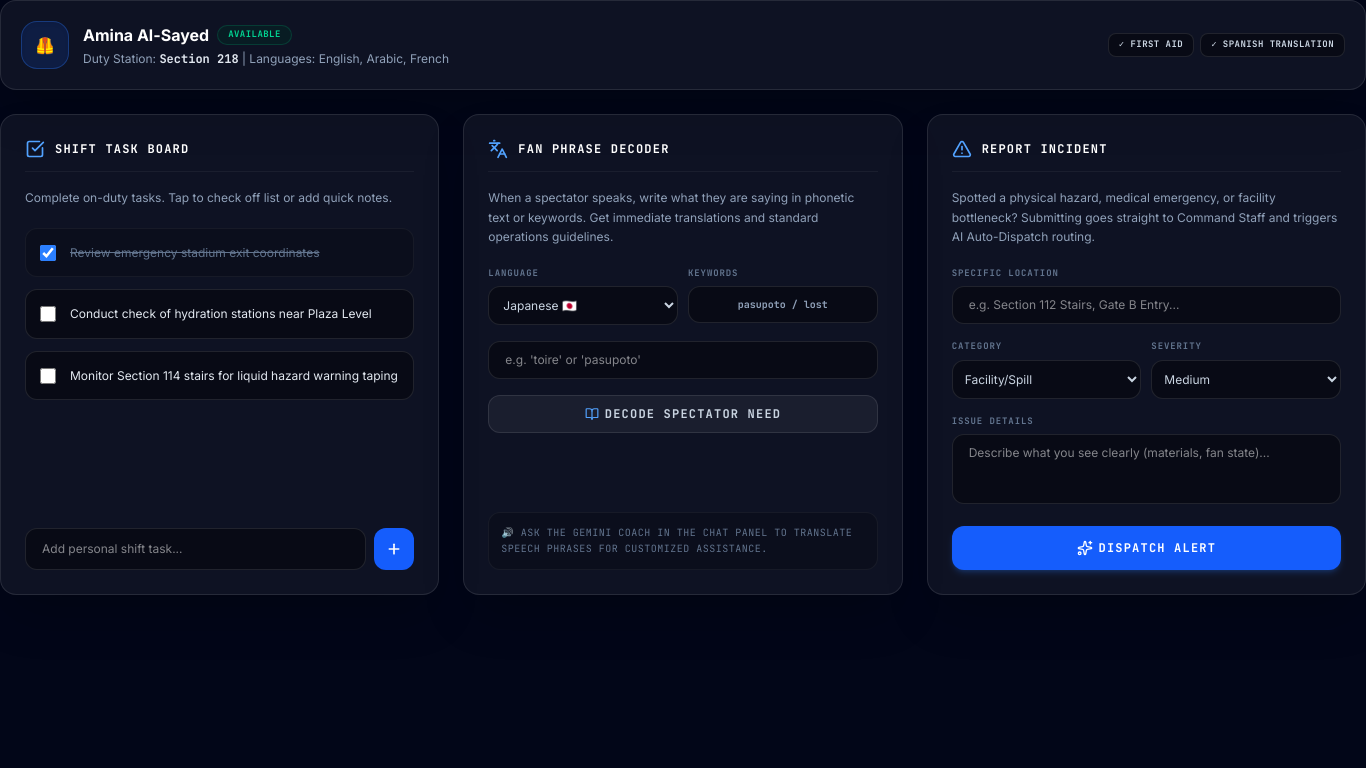
VolunteerDashboard Component Tests › speech translator utility correctly processes phrases
Expected: the field with id "spectator-phrase-input" is shown, [488, 341, 878, 379]
Expected: the button with id "spec-translate-btn" is shown, [488, 395, 878, 433]
// Test Spanish lost son phrase
Select "Spanish 🇲🇽" in the dropdown with id "spec-lang-select": (583, 306) [488, 286, 678, 325]
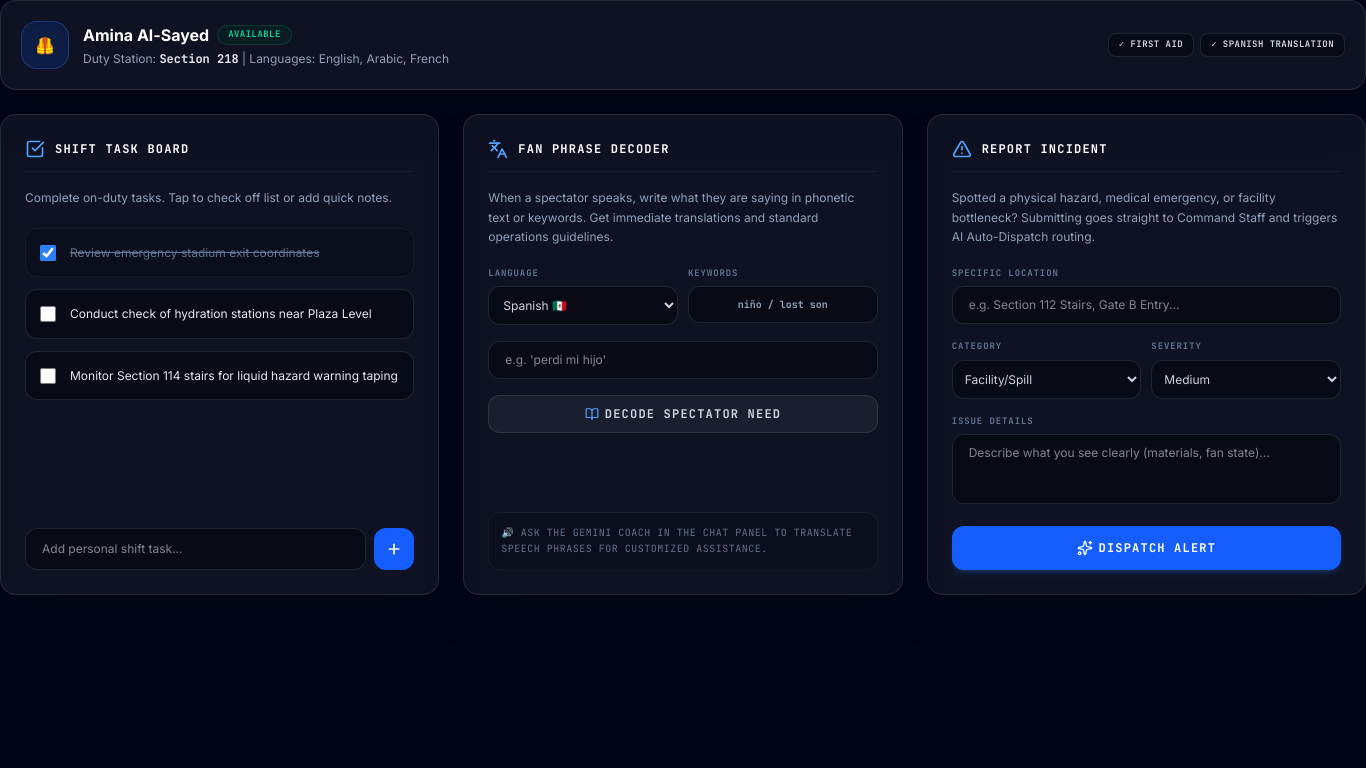
In the field with id "spectator-phrase-input": (683, 360) [488, 341, 878, 379], type "Perdí mi hijo"
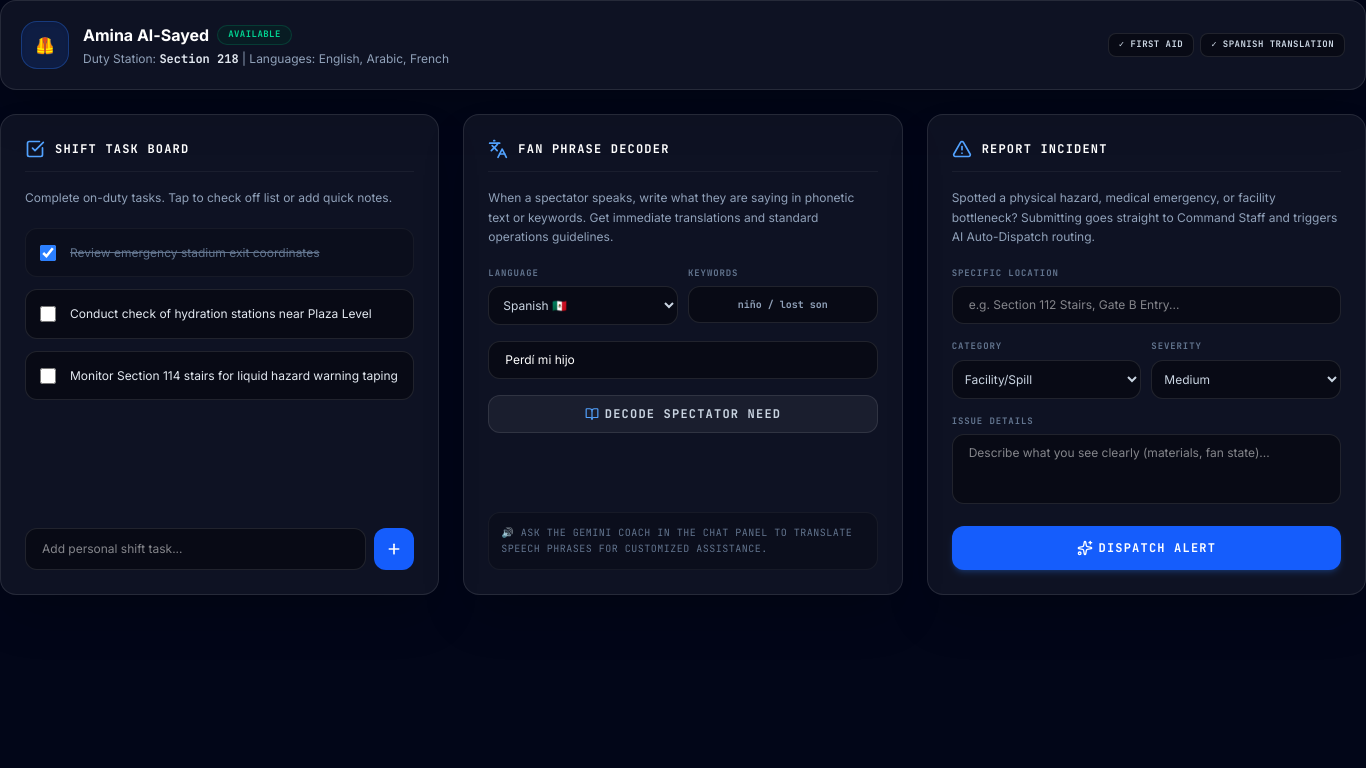
Click the button with id "spec-translate-btn": (683, 414) [488, 395, 878, 433]
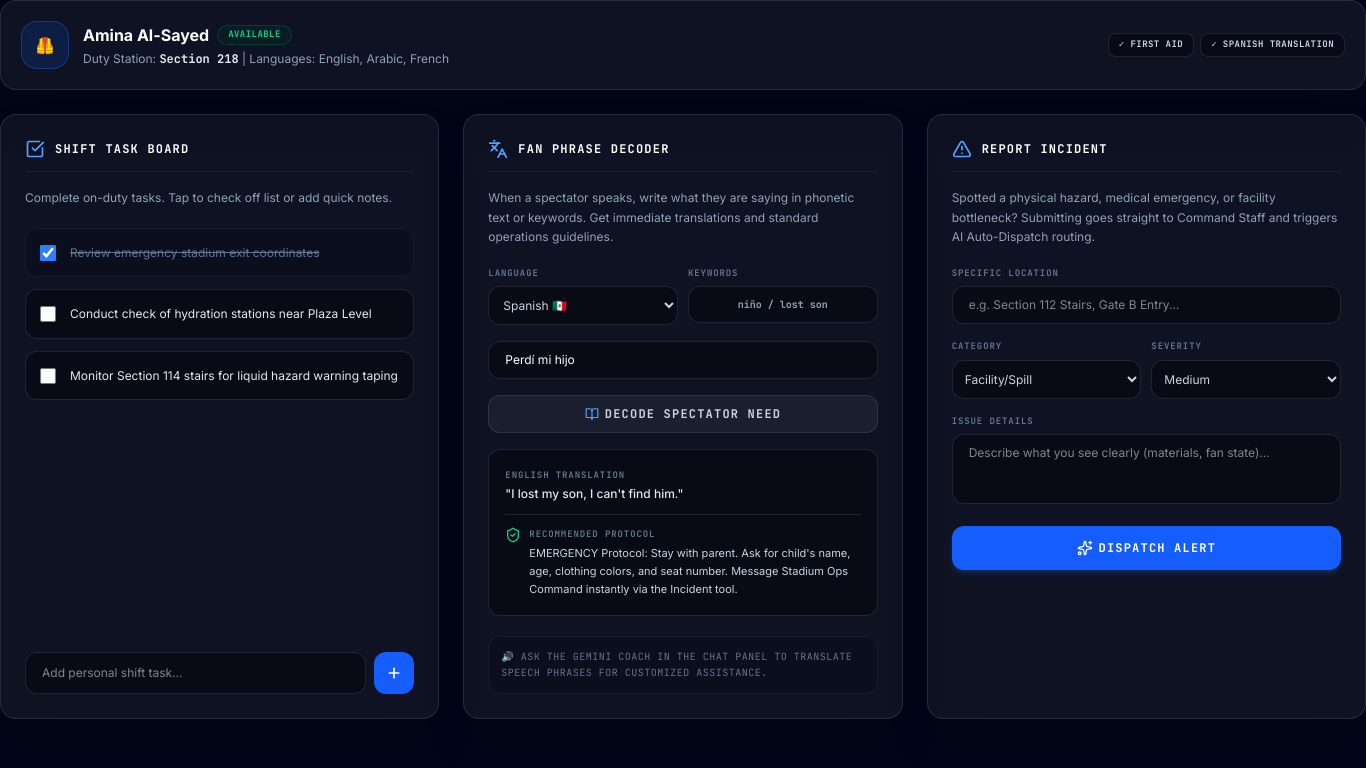
Result: the text "\"I lost my son, I can't find him.\"" is shown at [505, 486, 683, 501]
Result: the text "EMERGENCY Protocol" is shown at [529, 546, 850, 596]
